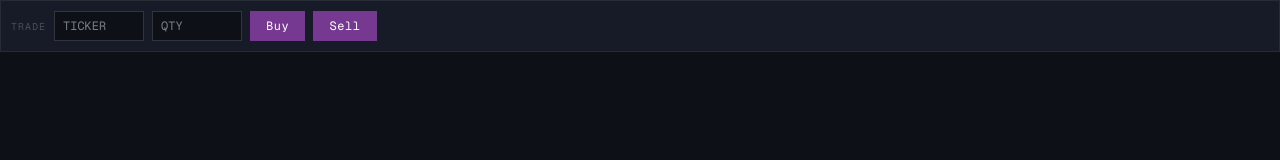
Test: TradeBar › submits a buy and shows the fill inline
Type "aapl" into the field labelled "TICKER".
click(99, 26); type("aapl")  # box [54,11,144,41]
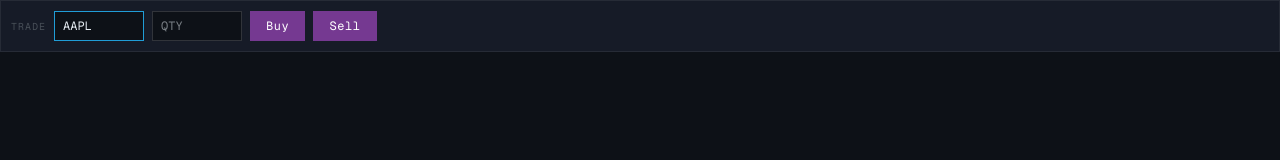
Type "2" into the number field named "quantity".
click(197, 26); type("2")  # box [152,11,242,41]
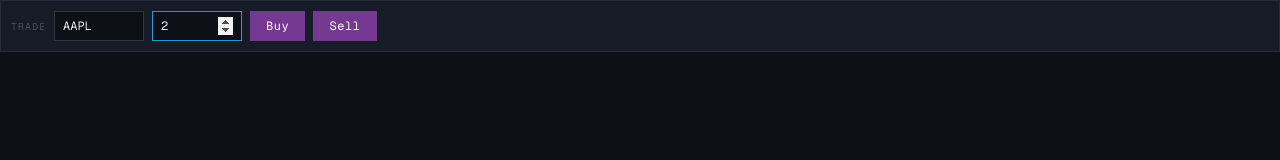
Click the button "Buy".
click(278, 26)  # box [250,11,305,41]
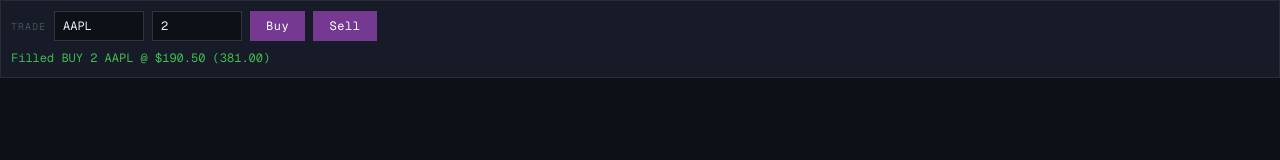
Result: the message with test id "trade-status" shows "Filled BUY 2 AAPL @ $190.50" at [11,50,270,66]
